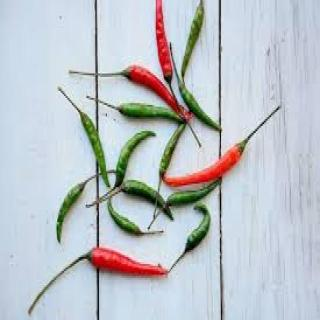Cabai Hijau: (181, 3, 217, 85), (78, 109, 113, 189), (52, 176, 88, 247), (115, 127, 159, 183), (182, 206, 216, 268), (108, 203, 150, 243), (120, 103, 178, 117)
Cabai Merah: (127, 67, 204, 127), (86, 247, 170, 291), (154, 1, 175, 79)
